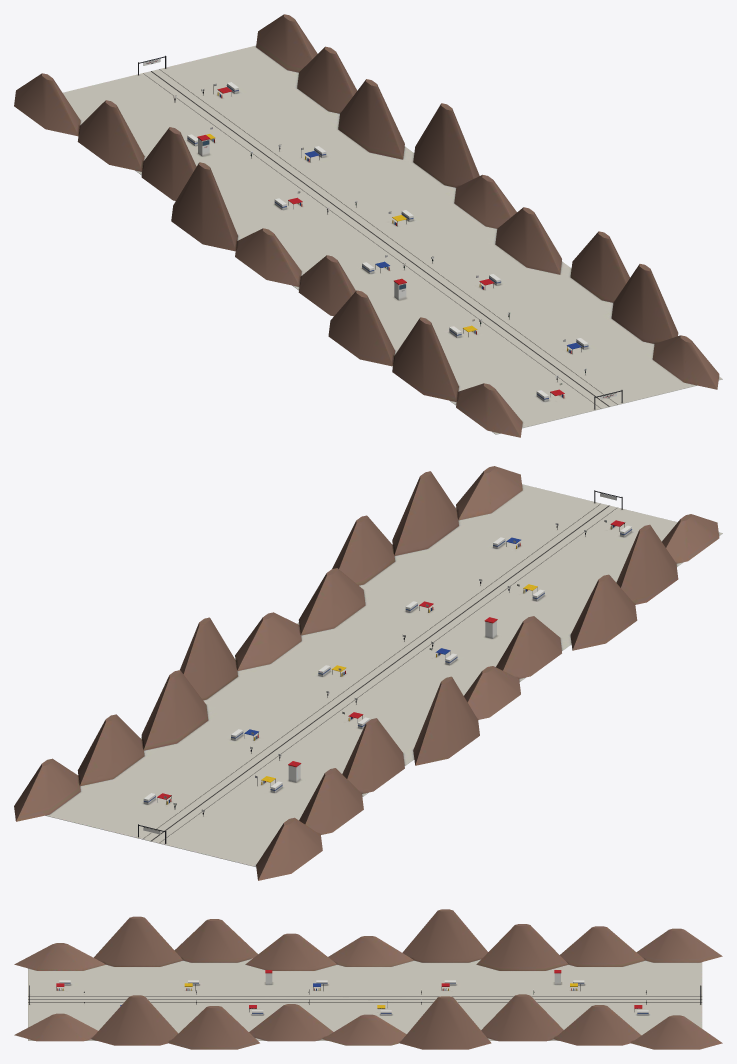
File: salar_bonneville.glb
3 renders of one model, top to bottom at view 1: azimuth 30°, elevation 25°; view 2: azimuth 150°, elevation 25°; view 3: azimuth 270°, elevation 25°, orthographic. The views are drawn at different scales.
Visible parts, largest first — view 1: salar_bonneville; view 2: salar_bonneville; view 3: salar_bonneville.
Part boxes in pixels (<box>): salar_bonneville: <box>14,14,722,437</box>; salar_bonneville: <box>14,466,722,880</box>; salar_bonneville: <box>14,909,722,1049</box>.
Bounding box in the file's own units: 147 × 31.8 × 442.
Materials: 1 (1 with a texture image).
